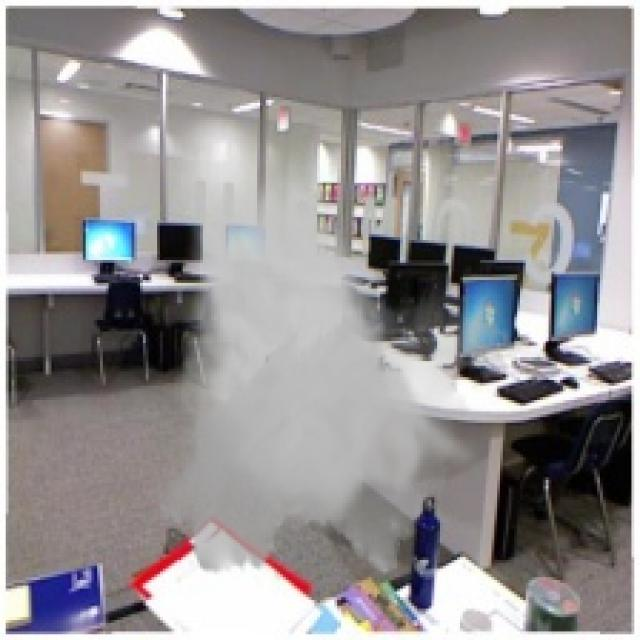smoke: (146, 160, 511, 586)
